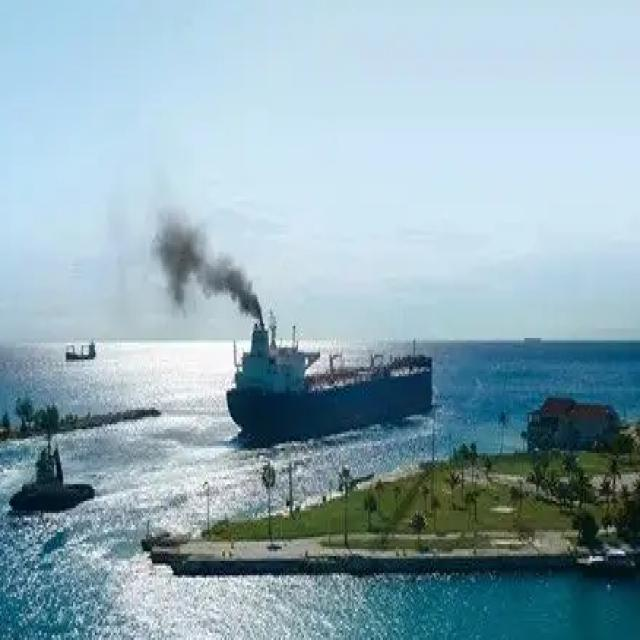cargoship: (214, 319, 442, 445)
